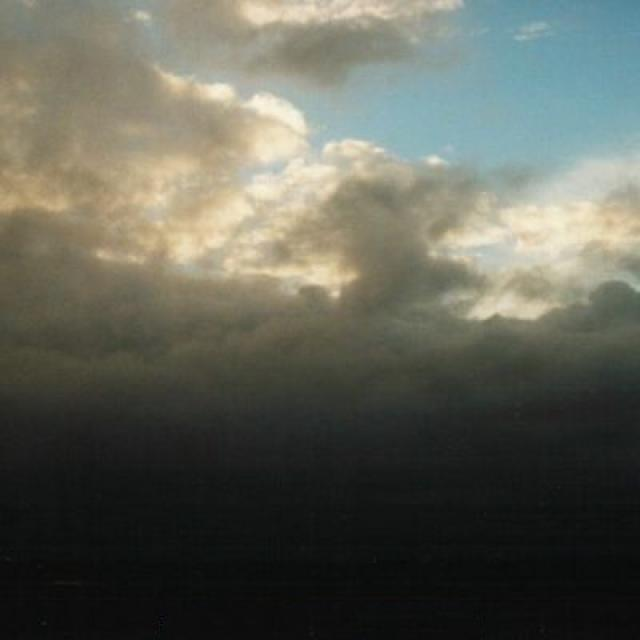Sc: (1, 1, 640, 462)
